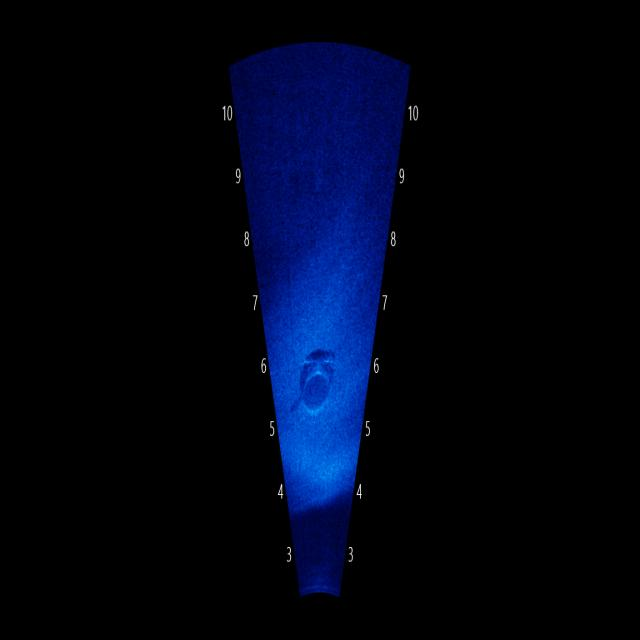circle: (293, 342, 343, 428)
